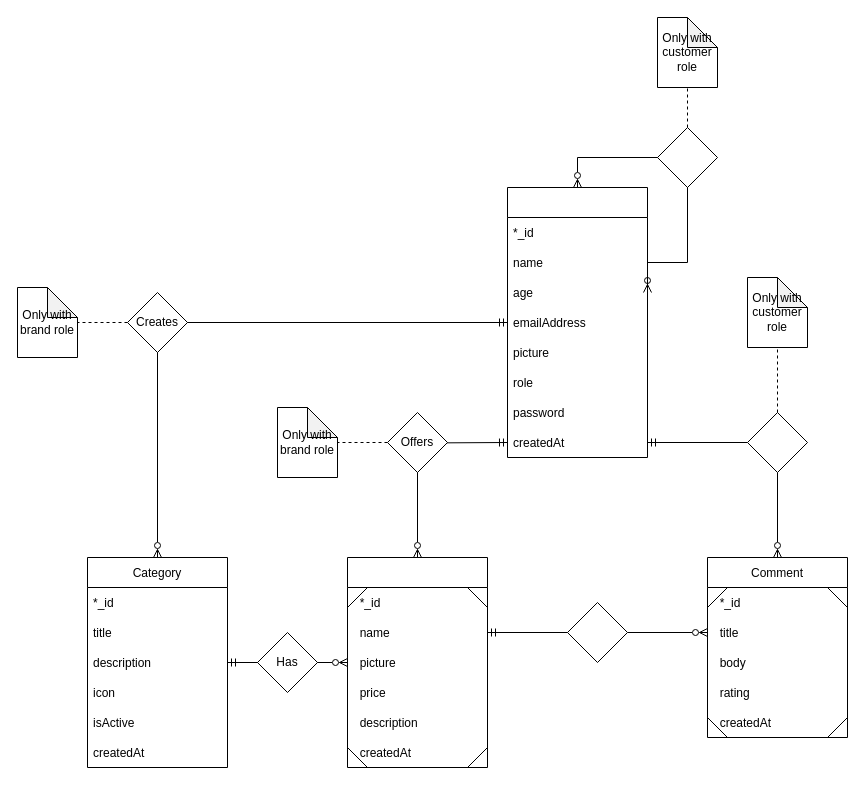
Image size: 866x786. Some labels were removed from this diagram. Each missing label, with the box of its shape:
Belongs to: (566, 602, 628, 662)
Follows: (656, 126, 718, 188)
Places: (746, 412, 808, 472)
Product: (346, 556, 488, 768)
User: (506, 186, 648, 458)
